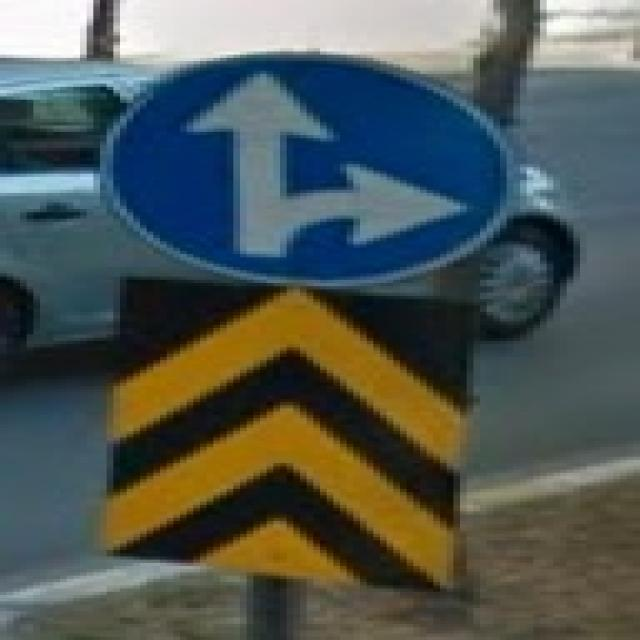Straight or Right: (104, 49, 511, 294)
